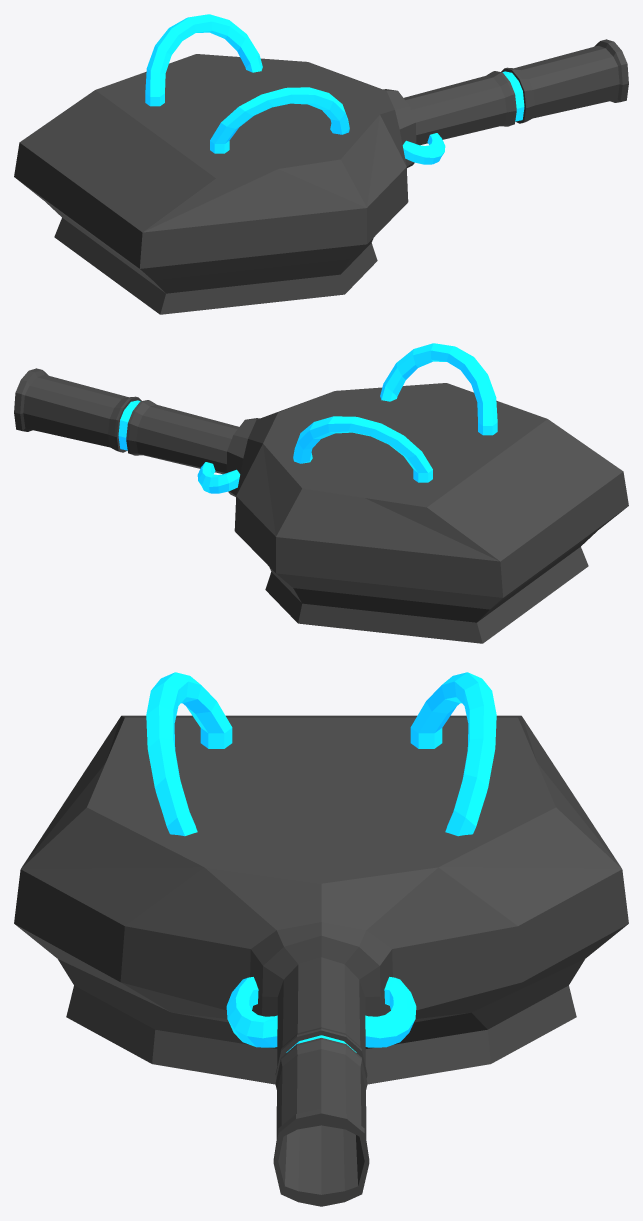
Rendered from tower_basic_turret (1).fbx.
The picture shows the model from 3 angles, top to bottom: view 1: azimuth 30°, elevation 25°; view 2: azimuth 150°, elevation 25°; view 3: azimuth 270°, elevation 25°; orthographic projection. The views are drawn at different scales.
Visible parts, largest first — view 1: turret; view 2: turret; view 3: turret.
Part boxes in pixels (x1=…): turret: x1=14, y1=14, x2=628, y2=314; turret: x1=14, y1=343, x2=628, y2=643; turret: x1=14, y1=672, x2=628, y2=1206.
Bounding box in the file's own units: 442 × 151 × 269.
